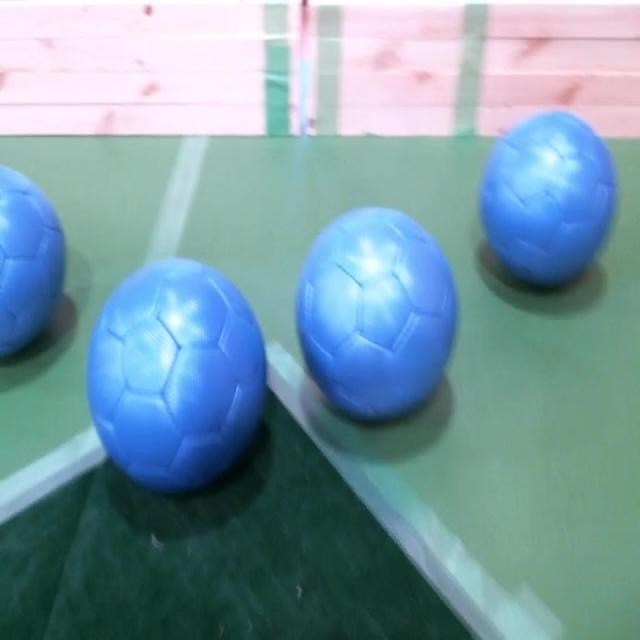blue_ball: (82, 262, 268, 497), (301, 206, 457, 426), (477, 109, 618, 295), (0, 165, 63, 356)
